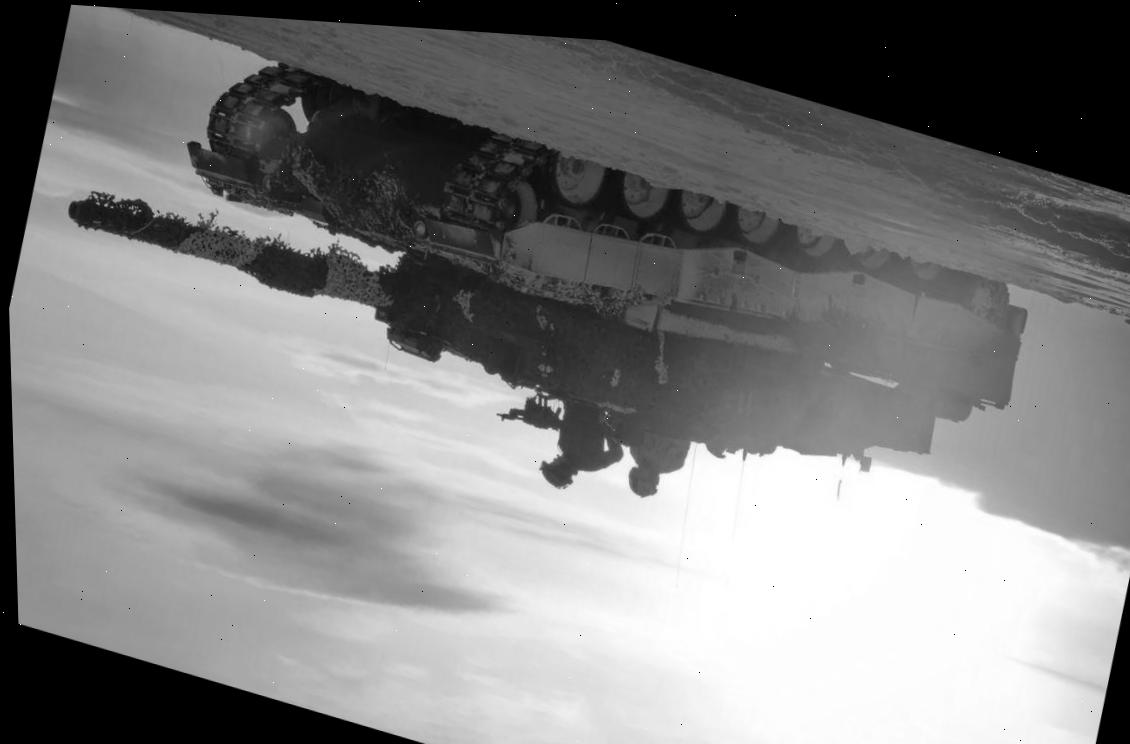tank: (42, 8, 1045, 570)
